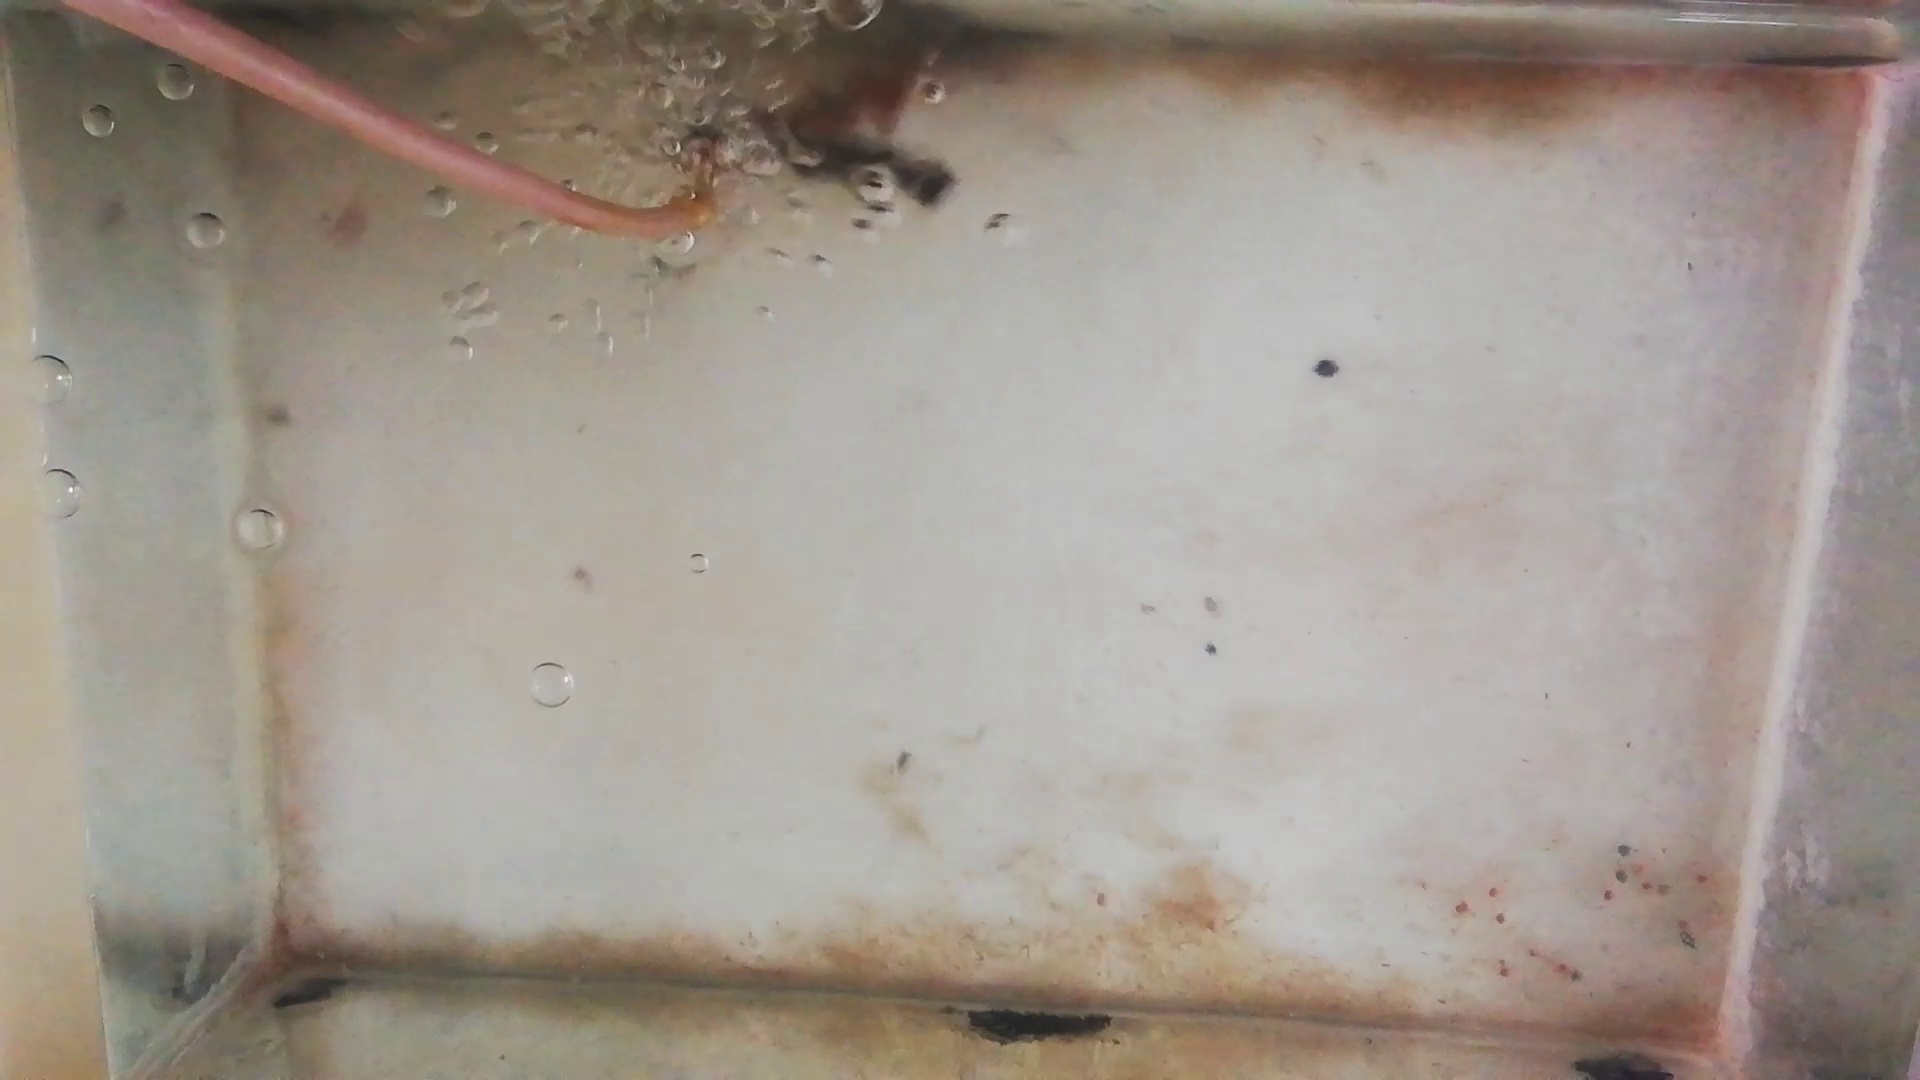fish: (752, 127, 955, 212), (770, 40, 948, 132)
